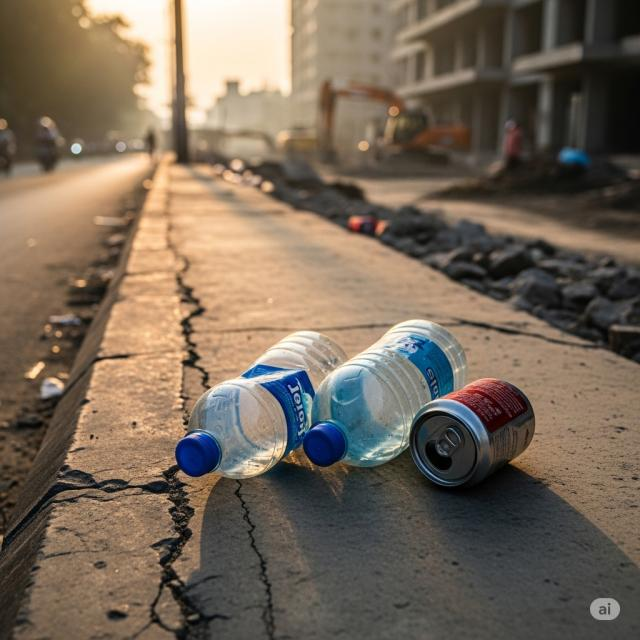aluminum: (410, 378, 536, 493)
plastic: (172, 327, 351, 482), (303, 316, 466, 472)
